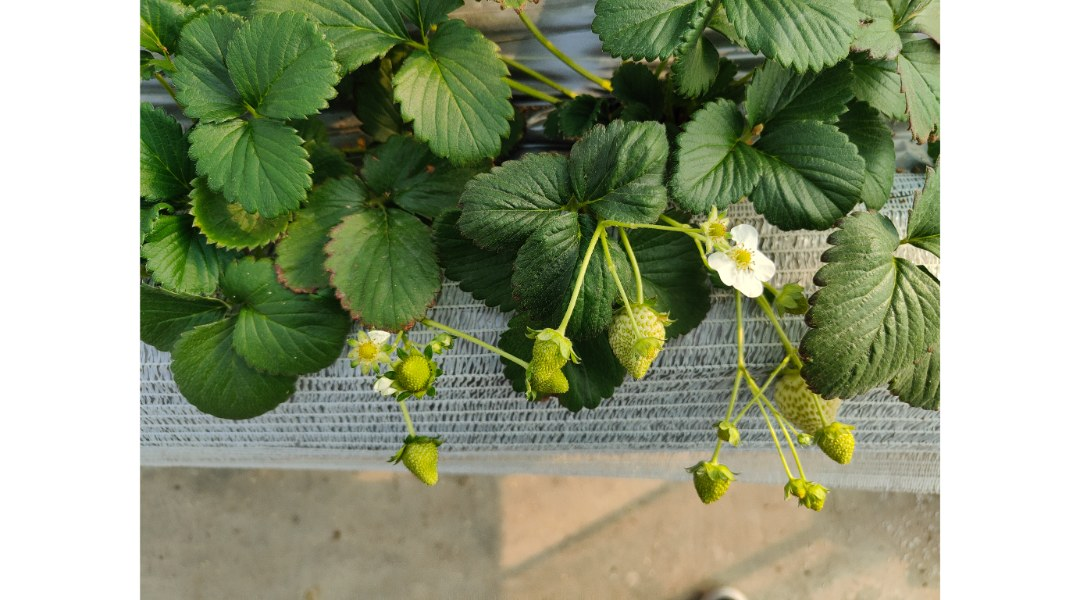berry: (605, 300, 671, 387), (778, 364, 842, 431), (393, 425, 445, 504), (517, 318, 582, 378), (686, 452, 735, 515), (390, 348, 440, 404), (813, 423, 857, 472), (346, 330, 384, 374), (534, 363, 575, 402), (704, 420, 746, 445), (807, 480, 832, 515), (785, 477, 808, 501)
flower: (704, 220, 781, 299)
strain: (420, 318, 525, 370), (565, 233, 595, 315), (731, 289, 749, 363), (629, 232, 644, 309), (602, 240, 618, 302), (614, 222, 669, 234)
